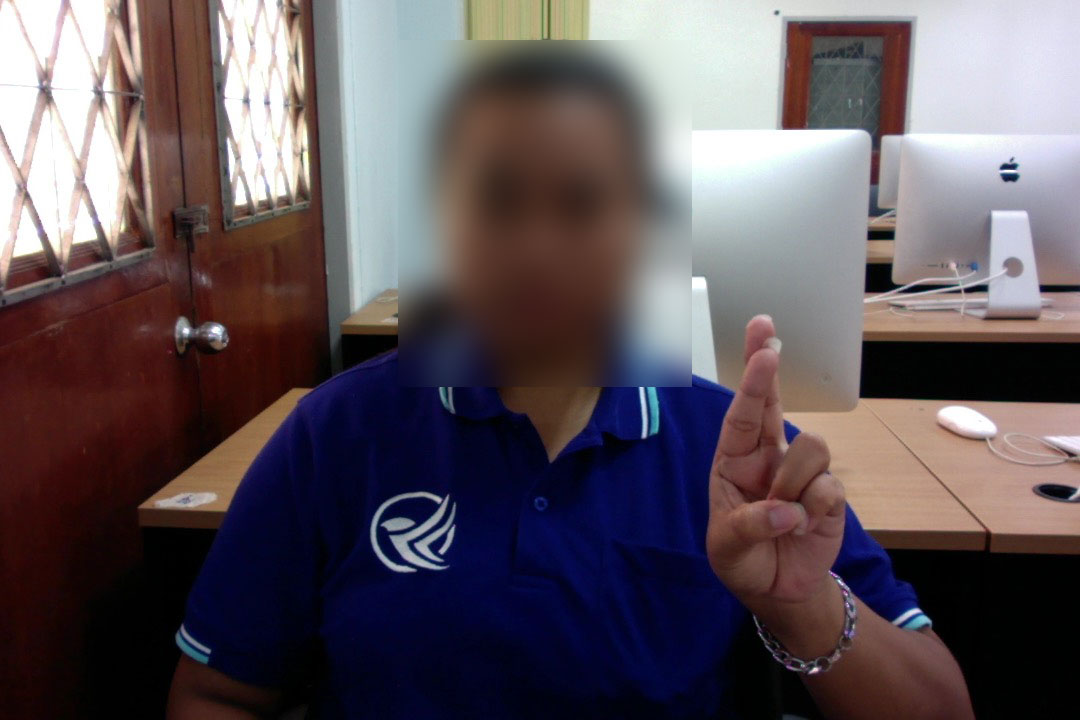rao: (695, 302, 857, 616)
